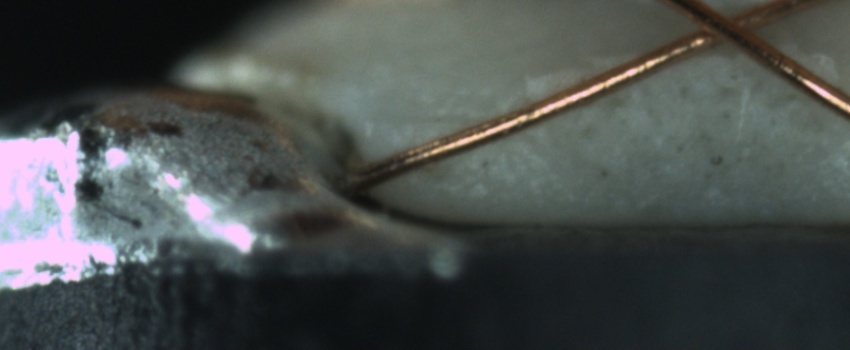CL: (675, 1, 774, 56)
DL: (374, 90, 510, 144)
